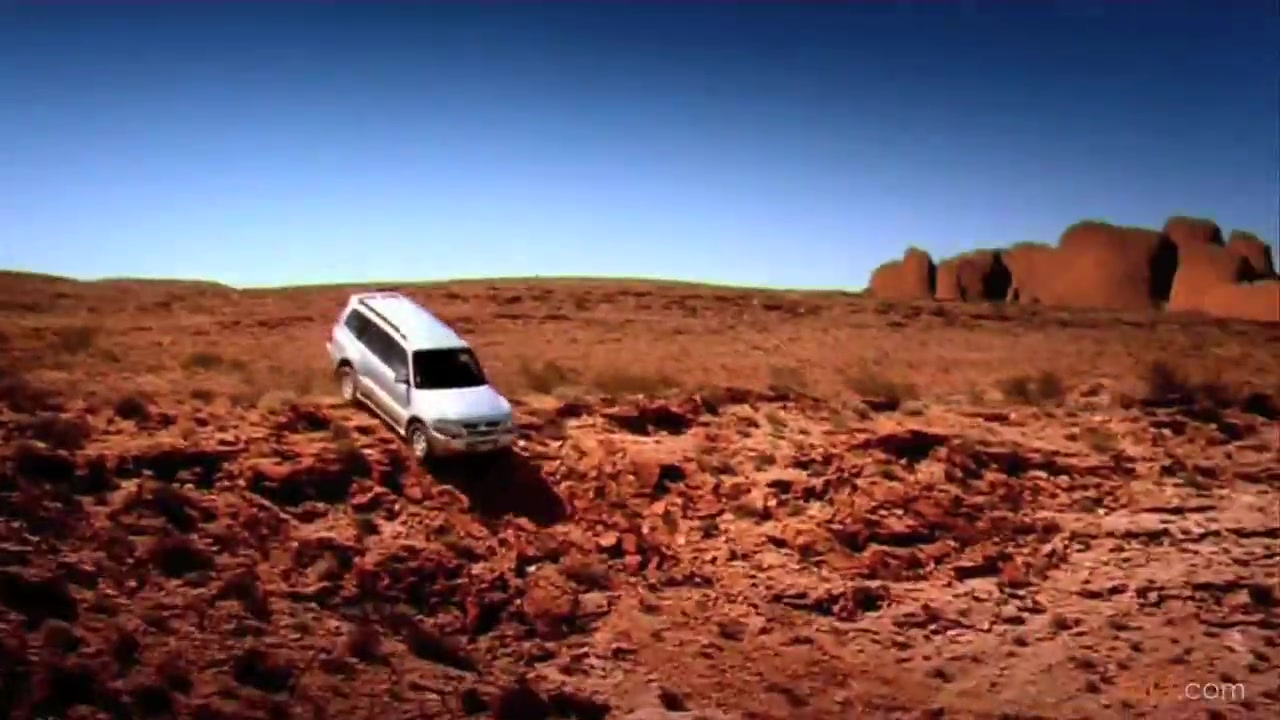car: (327, 289, 516, 465)
